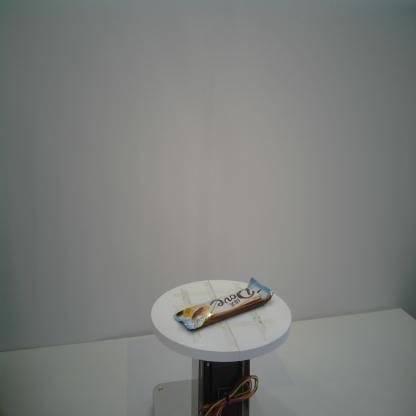Chocolate: (173, 276, 273, 330)
